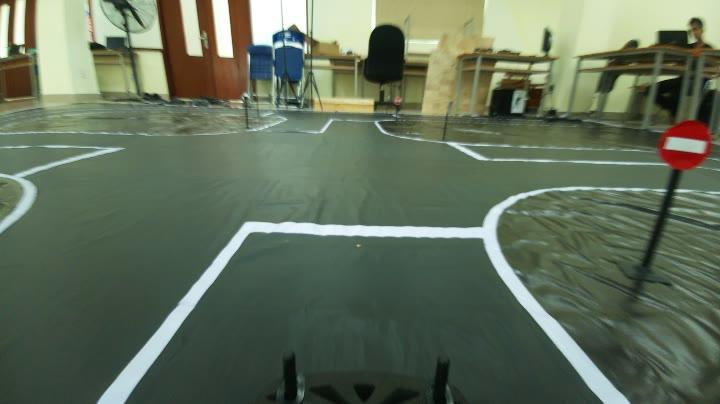no_entry: (651, 111, 719, 177)
